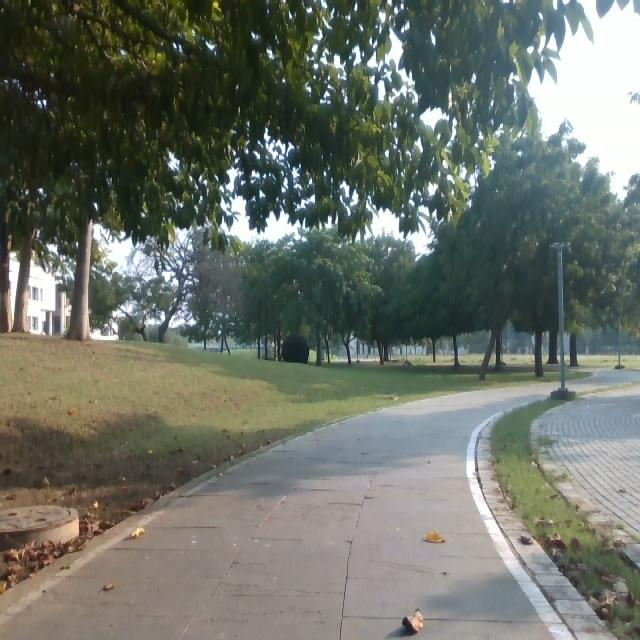lane: (6, 370, 638, 638)
